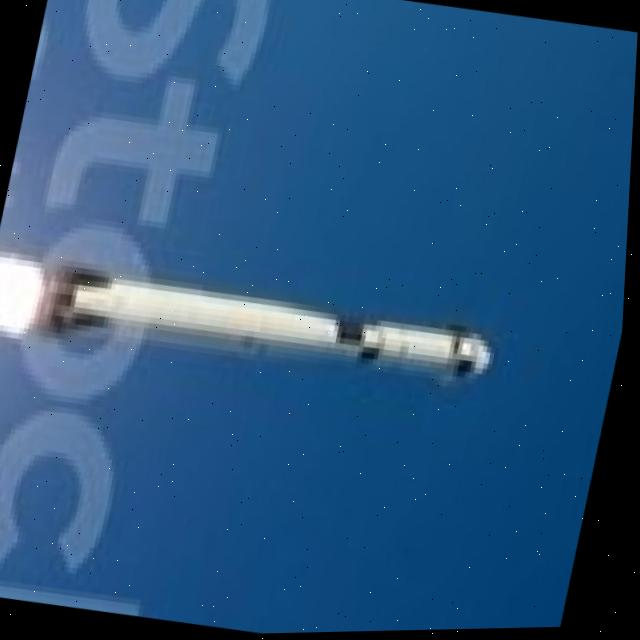missile: (28, 247, 508, 420)
